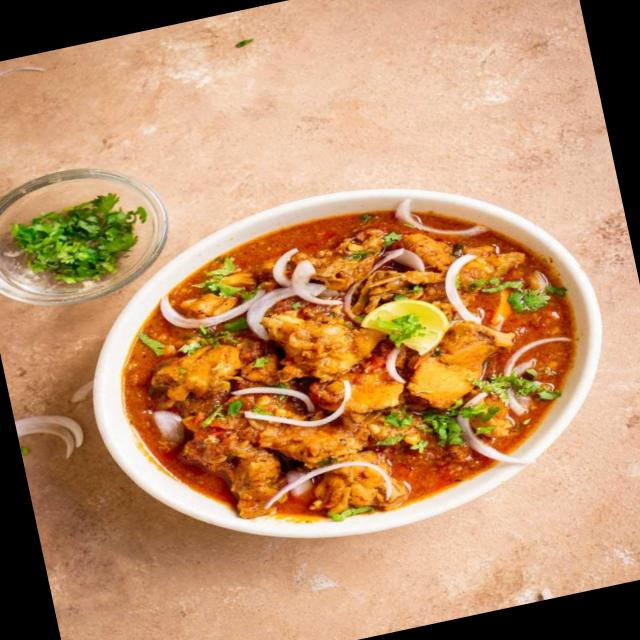chicken: (129, 173, 606, 542)
